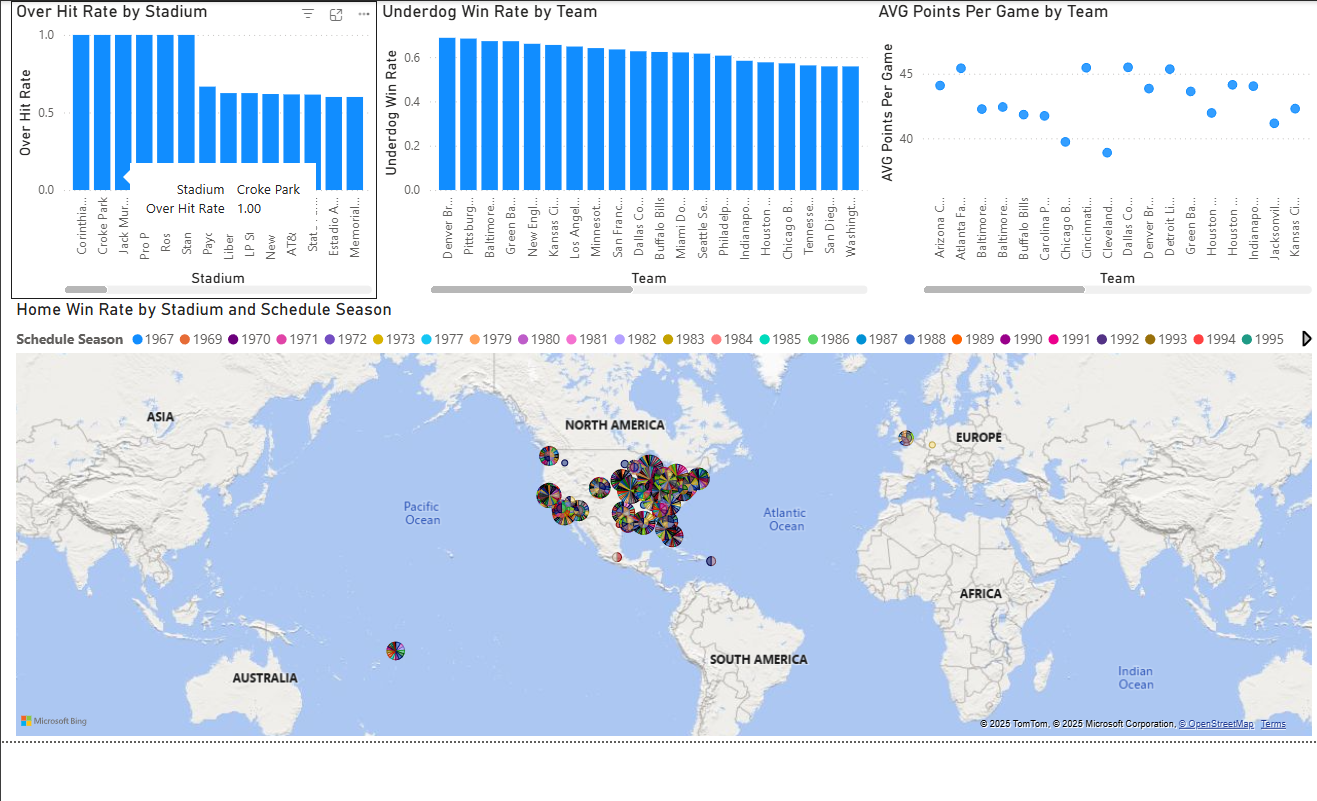

Layout of this report page (visuals, bound fields, positions):
{"tool":"powerbi","page":{"name":"Advanced Analysis","canvas":[1280,720],"ordinal":3},"visuals":[{"type":"columnChart","fields":{"Category":["nfl_sports_betting_final.stadium"],"Y":["nfl_sports_betting_final.Over Hit Rate"]},"box":[9.7,0,356,289.8],"z":0},{"type":"columnChart","fields":{"Category":["nfl_sports_betting_final.Home Team"],"Y":["nfl_sports_betting_final.Underdog Win Rate"]},"box":[365.7,0,482.4,289.8],"z":1},{"type":"scatterChart","fields":{"X":["nfl_sports_betting_final.Home Team"],"Y":["nfl_sports_betting_final.AVG Points Per Game"]},"box":[848.1,0,431.9,289.8],"z":2},{"type":"map","fields":{"Category":["nfl_sports_betting_final.stadium","nfl_sports_betting_final.Home Team"],"Series":["nfl_sports_betting_final.schedule_season"],"Size":["nfl_sports_betting_final.Home Win Rate"]},"box":[9.7,289.8,1270.3,429.9],"z":3}]}

Visuals, with their boxes on the page's 1280x720 design canvas (x1, y1, x2, y2). These are canvas units, not pixel positions in the 1317x801 screenshot, which may show the page scaled, cropped or inside an application window:
columnChart - nfl_sports_betting_final.stadium x nfl_sports_betting_final.Over Hit Rate: 10, 0, 366, 290
columnChart - nfl_sports_betting_final.Home Team x nfl_sports_betting_final.Underdog Win Rate: 366, 0, 848, 290
scatterChart - nfl_sports_betting_final.Home Team x nfl_sports_betting_final.AVG Points Per Game: 848, 0, 1280, 290
map - nfl_sports_betting_final.stadium x nfl_sports_betting_final.Home Team: 10, 290, 1280, 720
